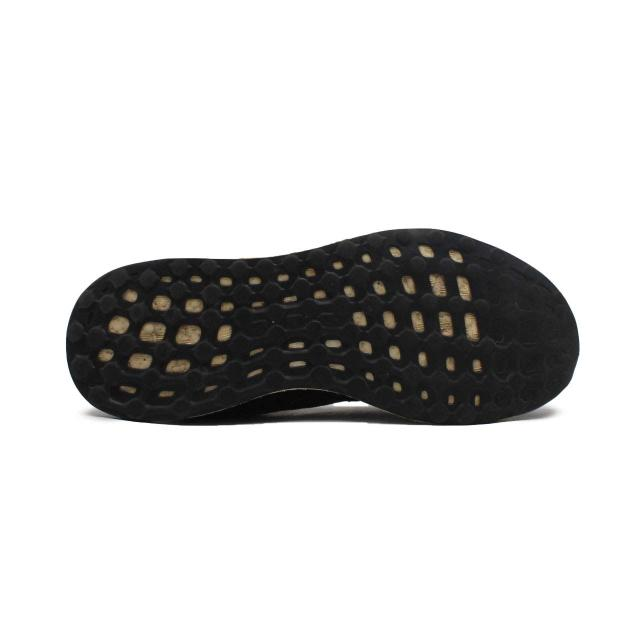outersole: (65, 230, 580, 426)
